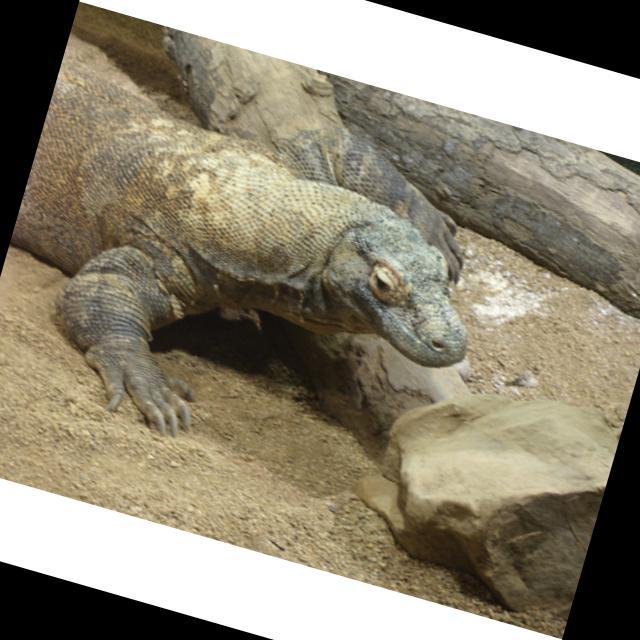KomodoDragon: (0, 30, 520, 507)
